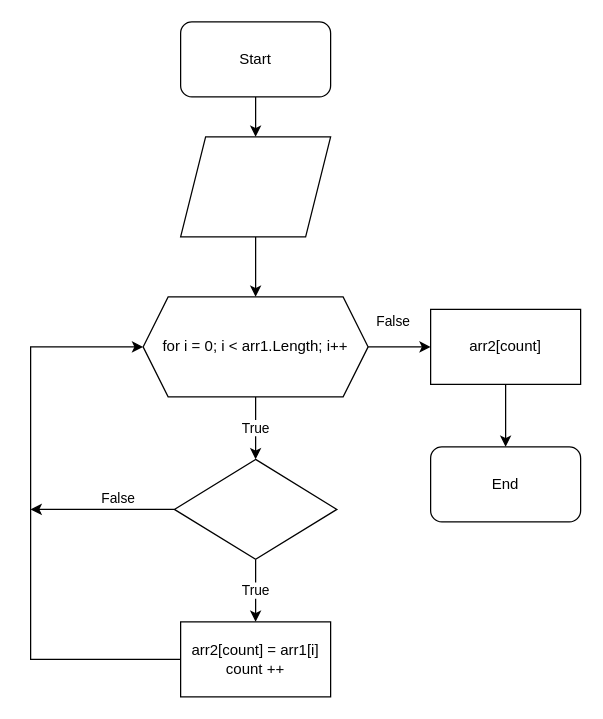
This 603x719 diagram has some shape labels left out. Here are the shapes that lost their labels. From the top down, the centre of each, then its label:
pixel 255 186: arr1[] arr2[] count = 0 limit = 3
pixel 255 508: if arr1[i].Length<=limit
